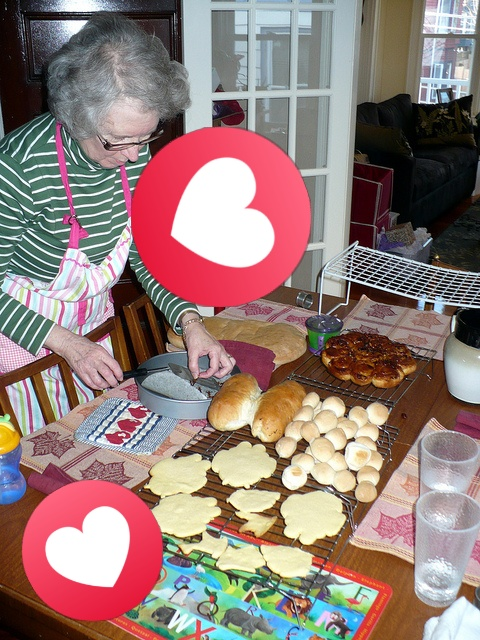love: (131, 127, 311, 307), (22, 480, 163, 621)
